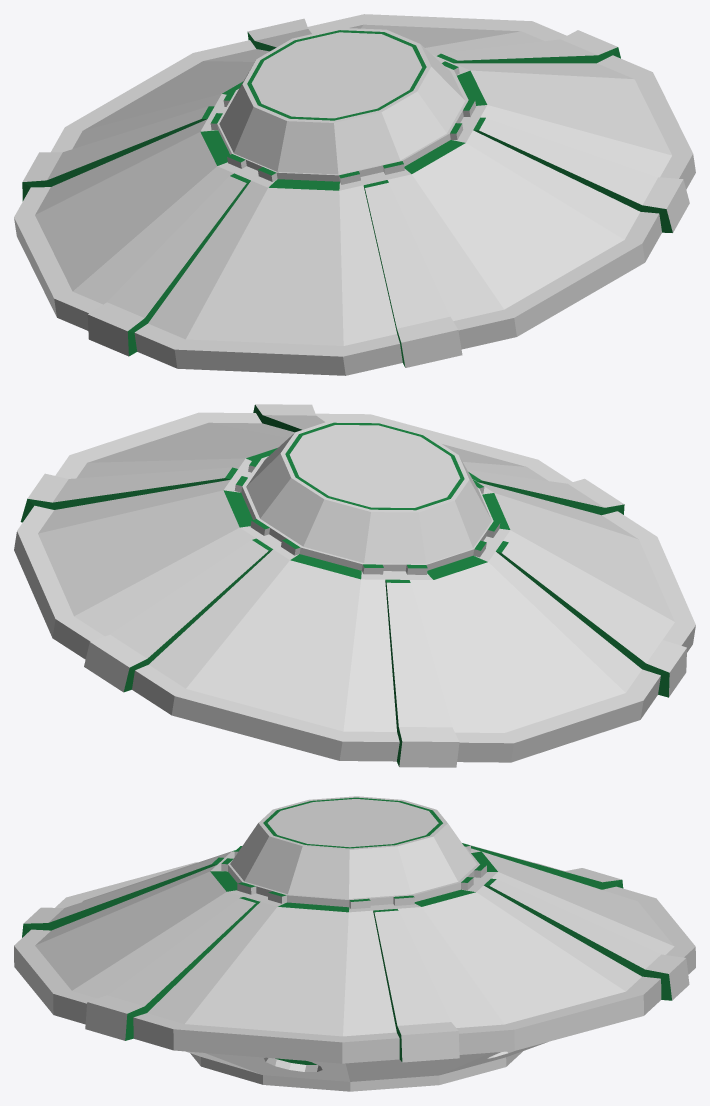
Rendered from naveEspacial.fbx.
3 renders of one model, top to bottom at view 1: azimuth 30°, elevation 25°; view 2: azimuth 150°, elevation 25°; view 3: azimuth 270°, elevation 25°, orthographic.
Visible parts, largest first — view 1: ufo; view 2: ufo; view 3: ufo.
Part boxes in pixels (bbox=[...]): ufo: bbox=[14, 14, 695, 375]; ufo: bbox=[14, 404, 695, 767]; ufo: bbox=[14, 796, 695, 1091].
Size of the model in its own units: 199 by 79.23 by 200.
